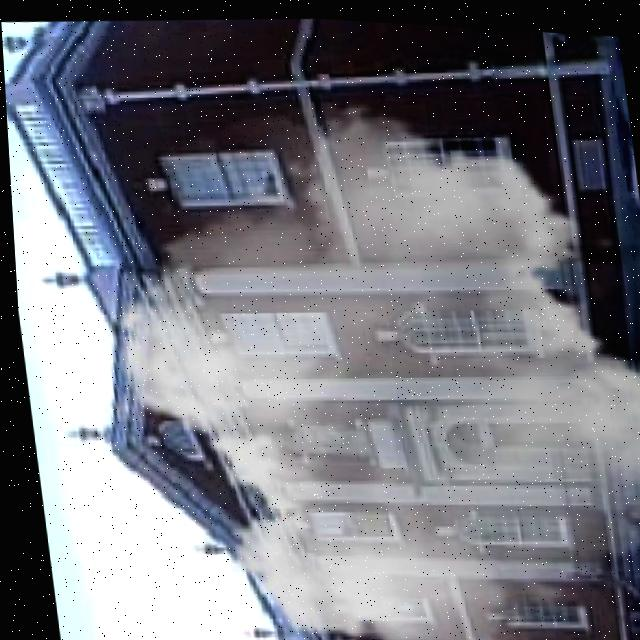Smoke: (63, 91, 640, 640)
